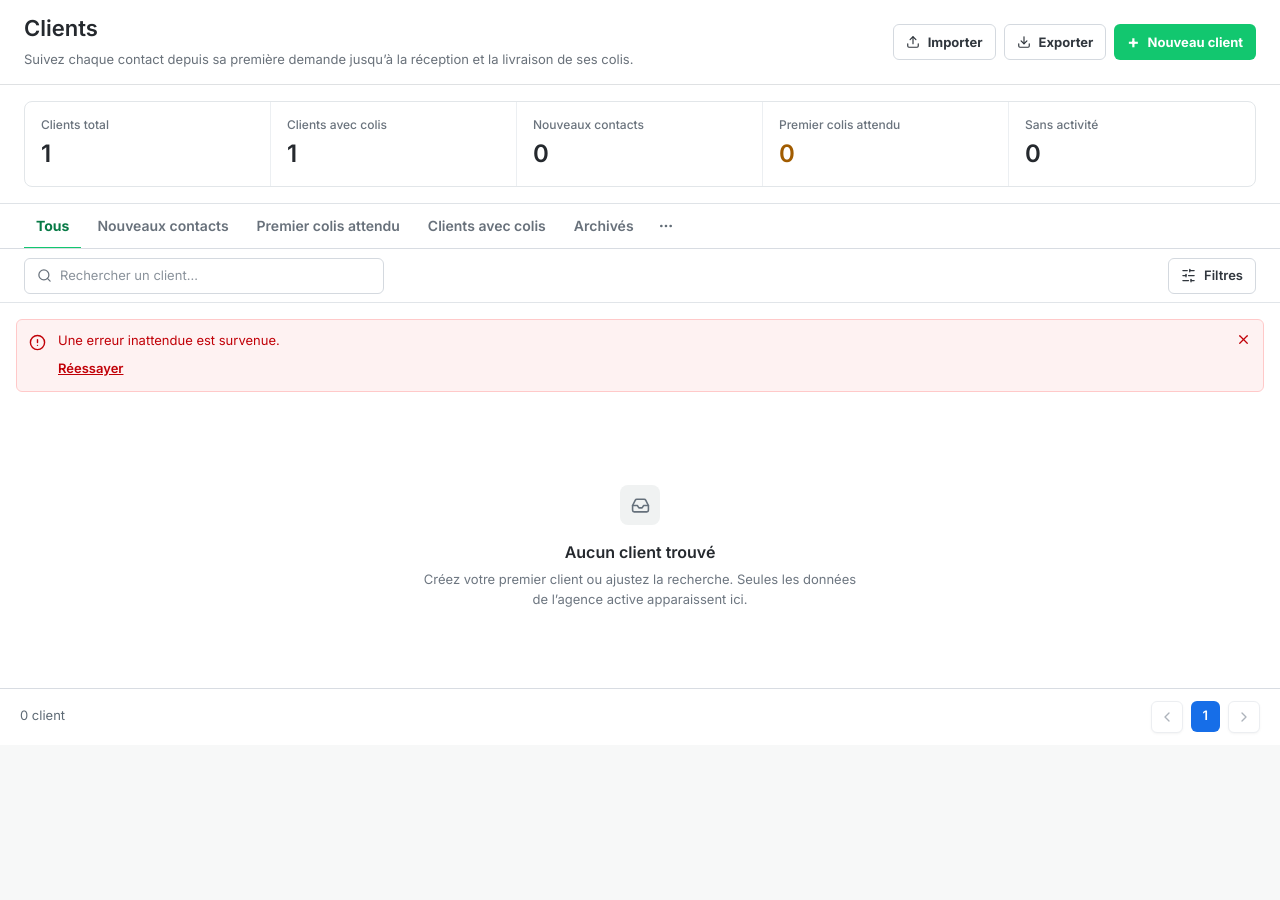
Scenario: ClientsPage production interactions › recovers after a temporary list failure
The width and height of the screenshot is (1280, 900).
Click the button "Réessayer".
click(91, 368)  # box 58,359 -> 124,378
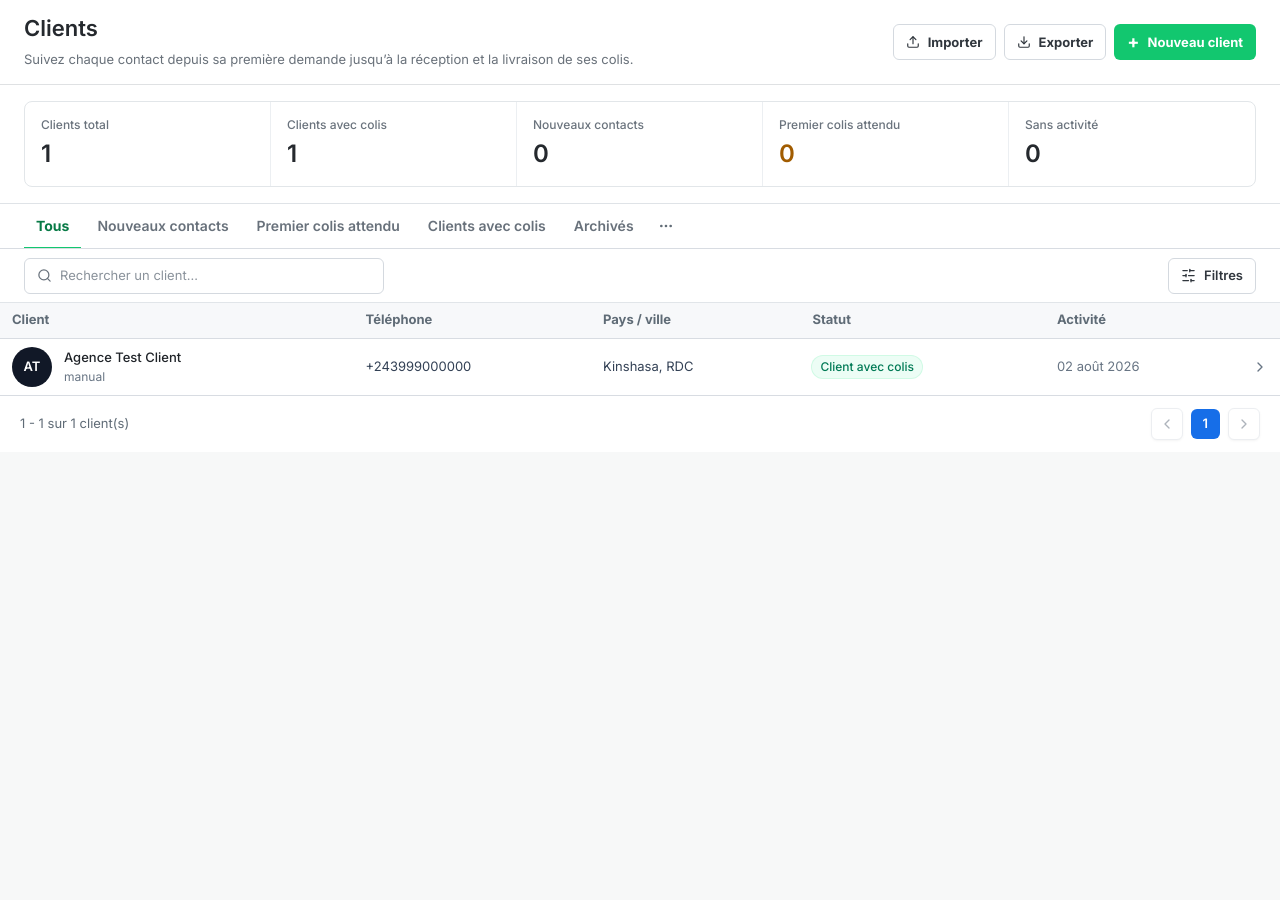
expect the text "Agence Test Client" is shown: met, box 64,349 -> 181,368
